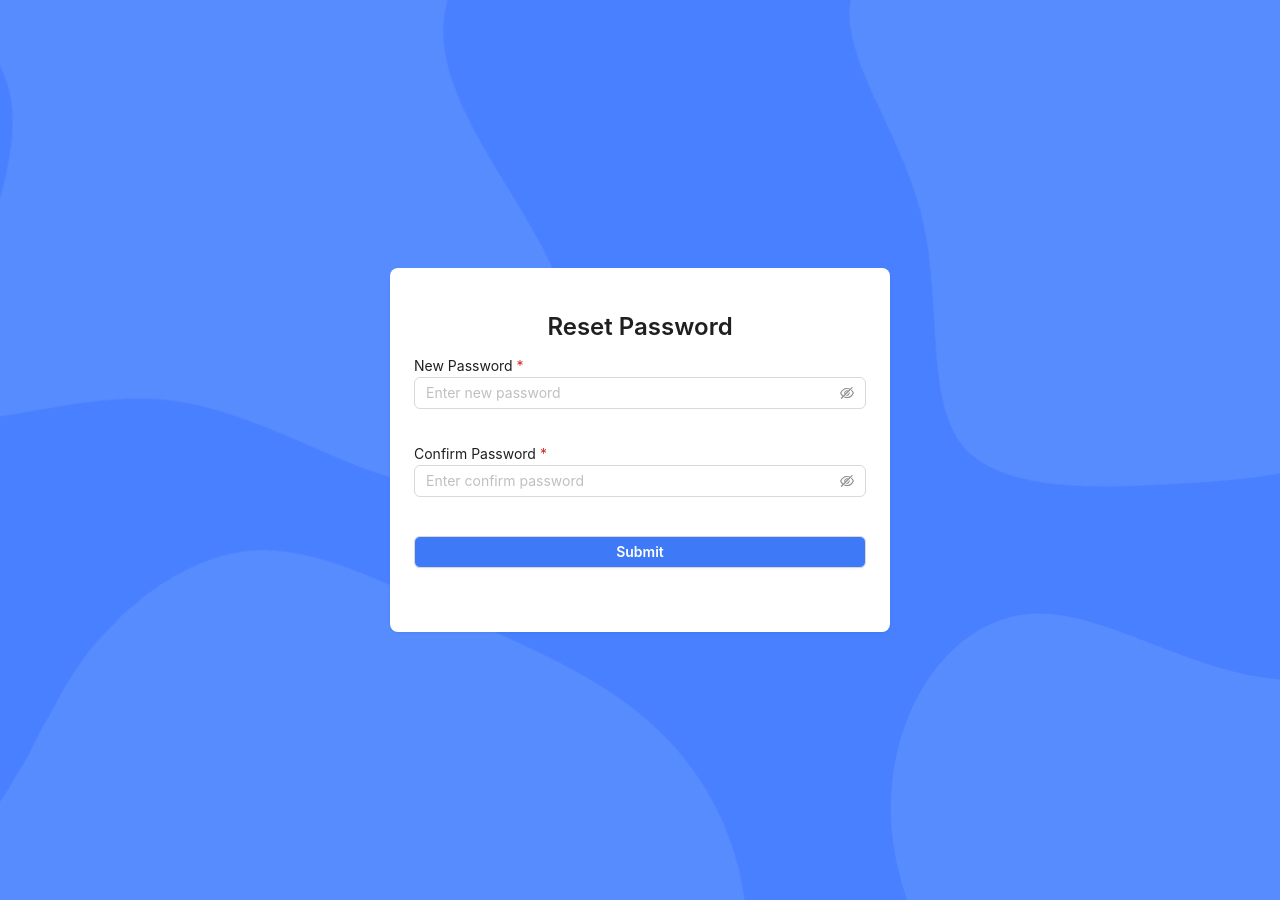
Test the Reset Password Component › should display alert if error
Click the button "Submit" at (640, 552), box [414,536,866,568]
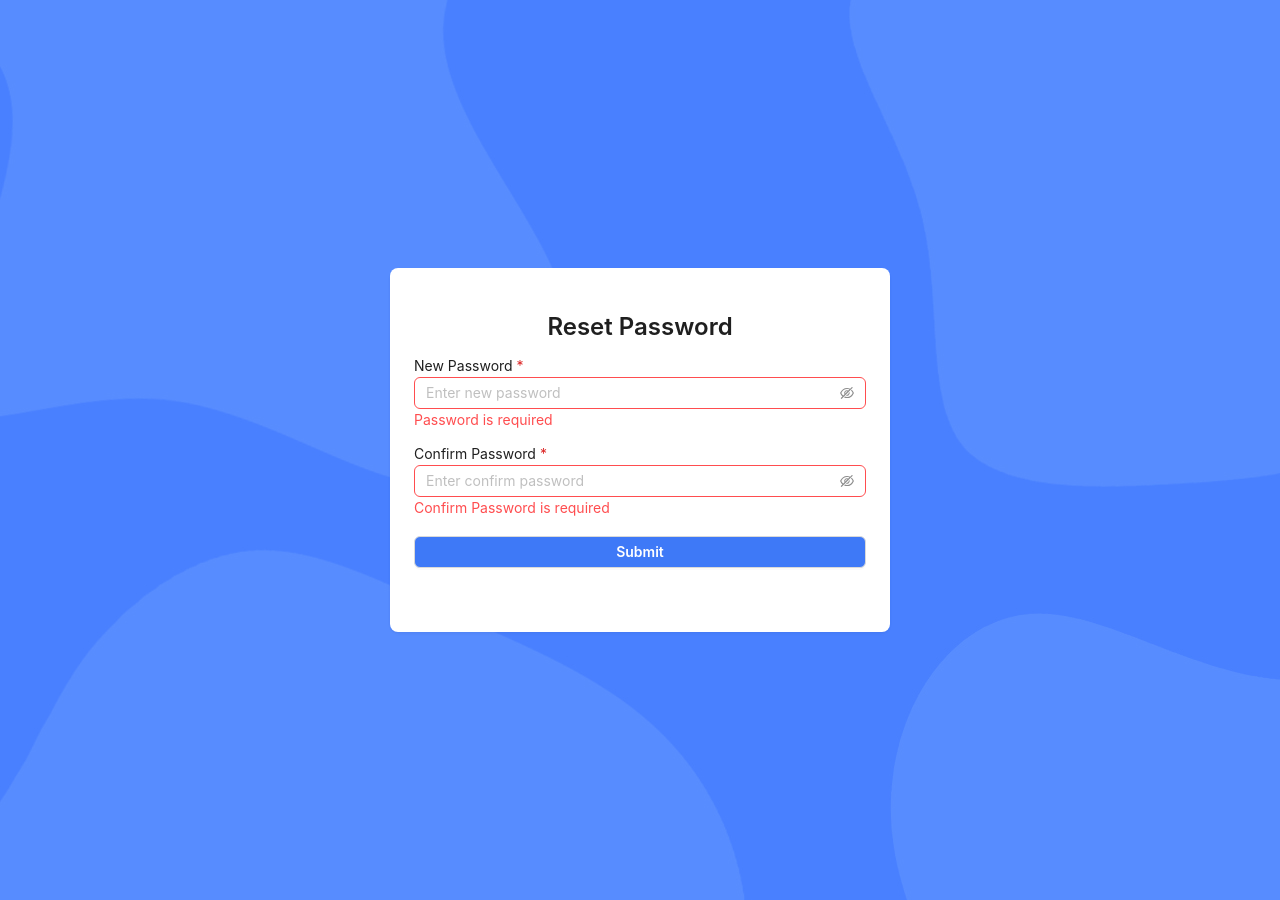
Now the text "Password is required" is shown, box [414,411,553,428]
Now the text "Confirm Password is required" is shown, box [414,499,610,516]
